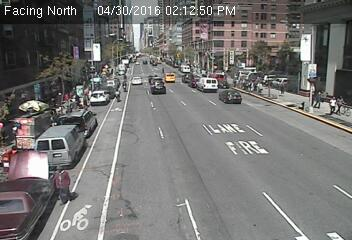neg: (139, 108, 159, 135), (85, 34, 103, 58), (290, 176, 308, 198), (105, 109, 121, 131), (187, 127, 202, 148), (265, 118, 280, 139), (138, 165, 153, 185), (48, 88, 63, 108), (222, 89, 234, 105), (158, 39, 170, 55), (111, 87, 123, 102), (119, 78, 130, 93), (137, 57, 145, 68)
pos: (39, 161, 75, 210), (331, 90, 351, 117), (324, 93, 342, 117), (311, 89, 327, 110), (276, 78, 290, 97), (159, 66, 166, 76)
